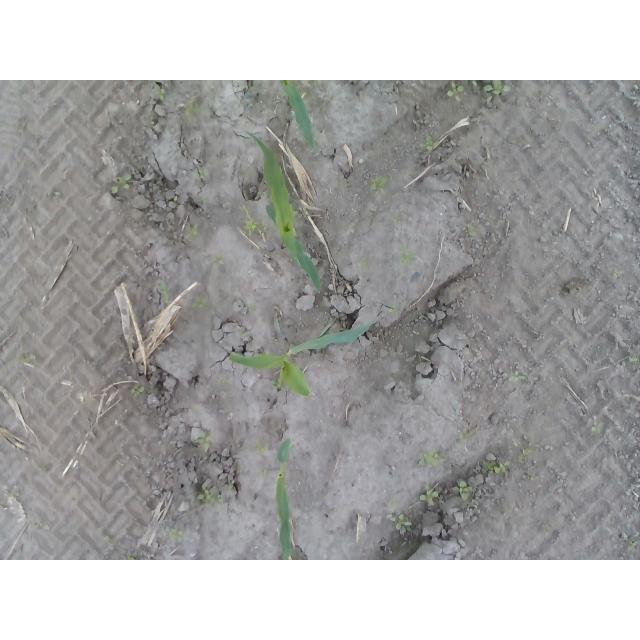Maize: (243, 130, 322, 293), (227, 319, 374, 397), (276, 437, 297, 560), (282, 80, 315, 146)
Weeds: (236, 204, 268, 236), (388, 499, 413, 530), (471, 80, 514, 96), (185, 100, 211, 119), (110, 174, 132, 194), (419, 481, 439, 503), (148, 80, 168, 102), (372, 173, 393, 193), (483, 461, 513, 474), (197, 487, 218, 505), (418, 449, 442, 464), (458, 479, 474, 501), (399, 245, 417, 264), (445, 80, 463, 98), (191, 297, 210, 312), (184, 223, 198, 241), (197, 431, 211, 449), (420, 133, 433, 151), (129, 383, 143, 398), (519, 447, 533, 462), (507, 371, 526, 382), (211, 256, 227, 269), (170, 526, 183, 542), (256, 439, 269, 454), (192, 167, 208, 179), (358, 255, 369, 272), (591, 421, 605, 433), (458, 432, 467, 449), (467, 224, 477, 238), (162, 287, 170, 303), (256, 468, 270, 477), (626, 356, 639, 365), (387, 303, 397, 313), (302, 207, 311, 217), (172, 196, 181, 205), (128, 554, 139, 560), (528, 476, 534, 481)
